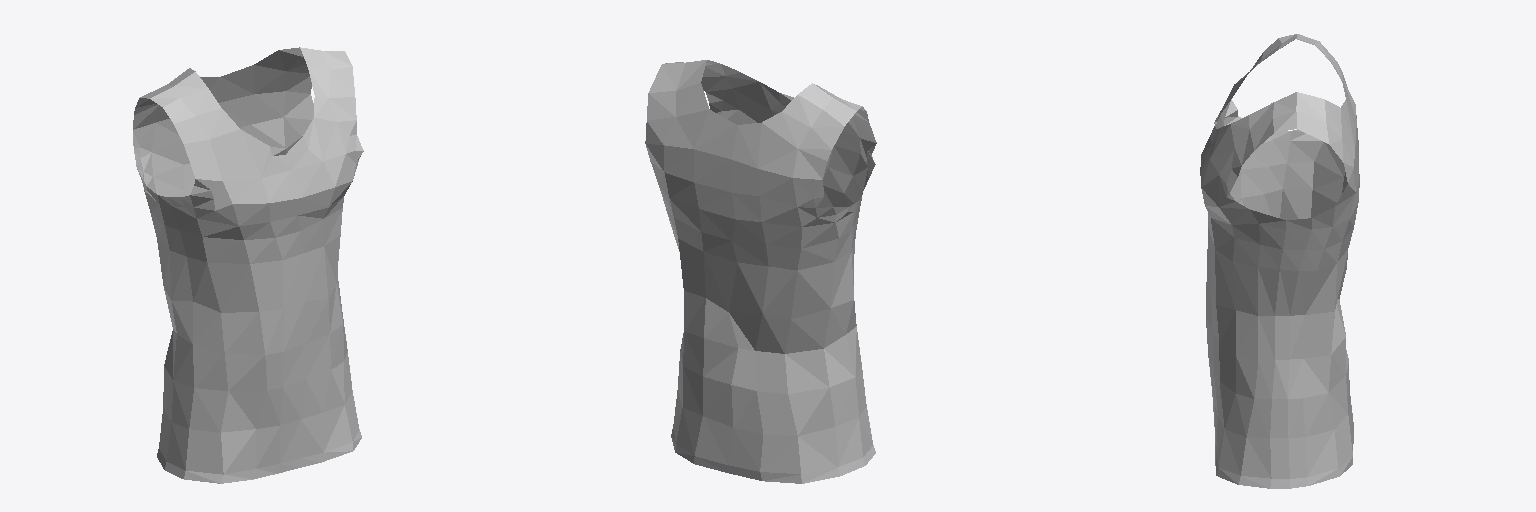
Rendered from TanktopResize2.obj.
The picture shows the model from 3 angles: view 1: azimuth 30°, elevation 25°; view 2: azimuth 150°, elevation 25°; view 3: azimuth 270°, elevation 25°; orthographic projection.
Visible parts, largest first — view 1: shirt_lp; view 2: shirt_lp; view 3: shirt_lp.
Boxes of the visible parts, <box> form: shirt_lp: <box>133,47,363,483</box>; shirt_lp: <box>645,60,876,483</box>; shirt_lp: <box>1200,34,1359,488</box>.
Size of the model in its own units: 4.98 by 9.33 by 3.52.